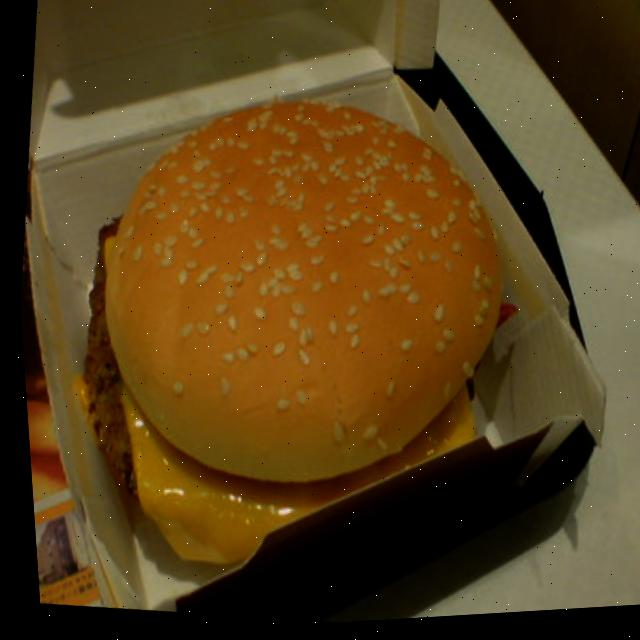汉堡快餐: (38, 66, 544, 591)
